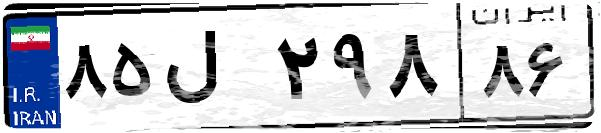2: (270, 28, 330, 110)
5: (110, 28, 158, 98)
6: (525, 38, 570, 115)
8: (385, 28, 445, 110), (57, 26, 110, 100), (475, 38, 525, 113)
9: (330, 28, 385, 110)
ل: (158, 20, 270, 120)
